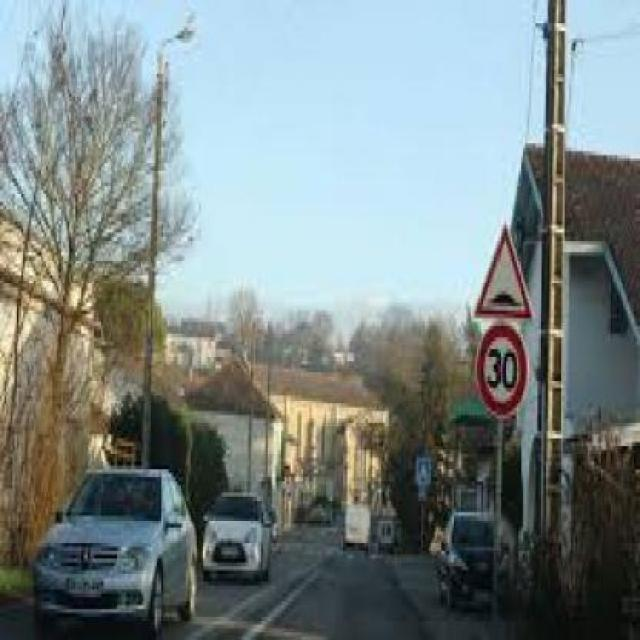forb_speed_over_30: (478, 323, 529, 419)
